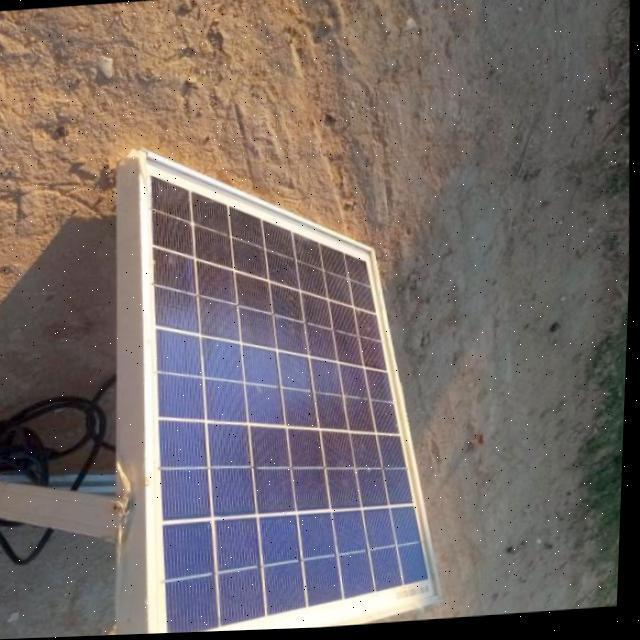Normal Solar Panel: (126, 134, 460, 636)
